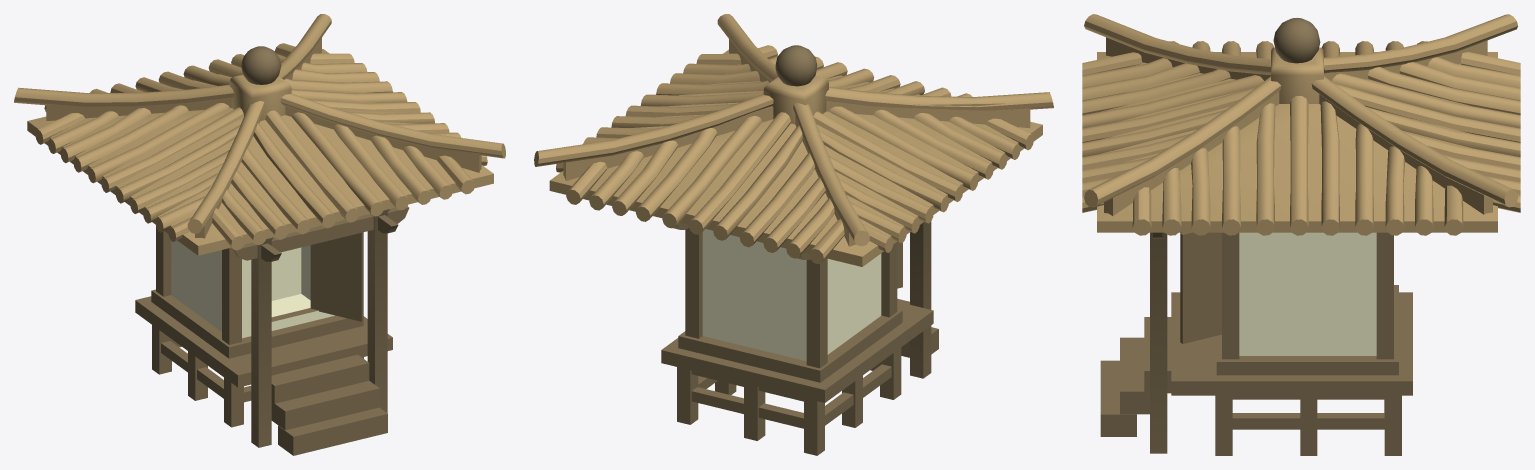
Rendered from Japanese Shrine.fbx.
3 views of the same model, side by side, from view 1: azimuth 30°, elevation 25°; view 2: azimuth 150°, elevation 25°; view 3: azimuth 270°, elevation 25° (orthographic). The views are drawn at different scales.
Visible parts, largest first — view 1: Shrine; view 2: Shrine; view 3: Shrine.
Boxes of the visible parts, box(x1,y1,x2,y2) form: Shrine: box(14, 14, 505, 455); Shrine: box(534, 14, 1053, 455); Shrine: box(1082, 14, 1520, 455).
Bounding box in the file's own units: 248 × 252 × 252.
